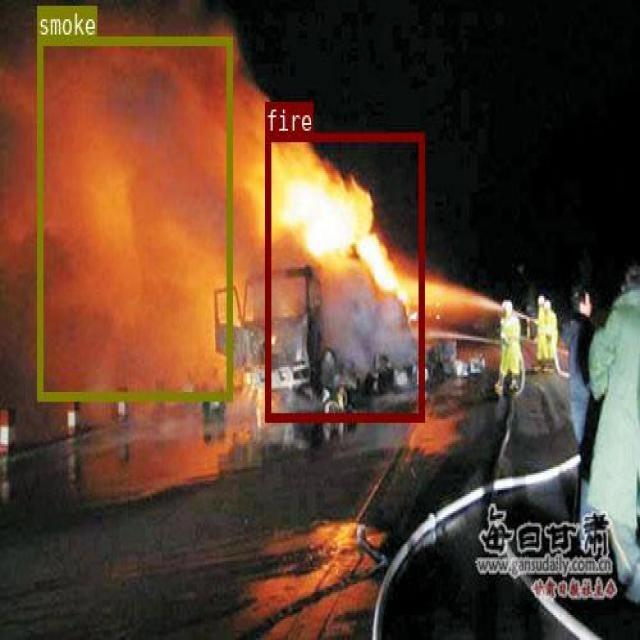fire: (265, 133, 423, 420)
smoke: (36, 36, 231, 398)
